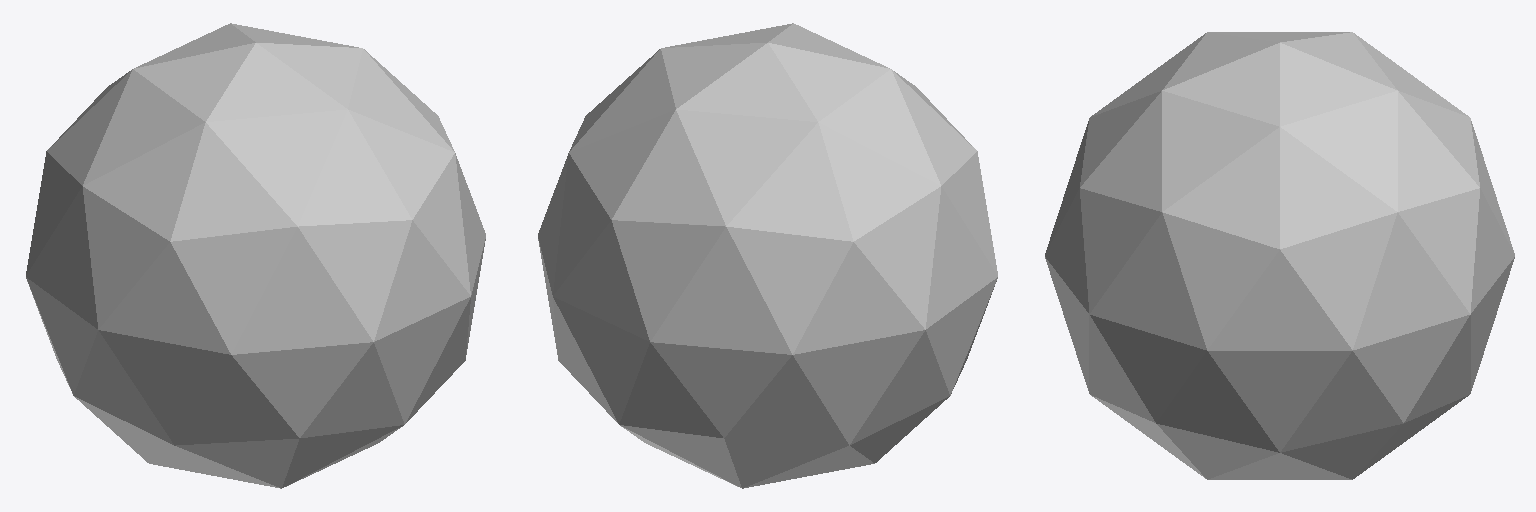
The model's file is candy.obj.
3 renders of one model, left to right at view 1: azimuth 30°, elevation 25°; view 2: azimuth 150°, elevation 25°; view 3: azimuth 270°, elevation 25°, orthographic.
Parts seen in each view (by area): view 1: Candy_Icosphere; view 2: Candy_Icosphere; view 3: Candy_Icosphere.
Part boxes in pixels (x1,y1,x2,y2): Candy_Icosphere: (26,23,485,488); Candy_Icosphere: (538,23,997,488); Candy_Icosphere: (1045,32,1514,479).
Bounding box in the file's own units: 0.0951 × 0.1 × 0.1.